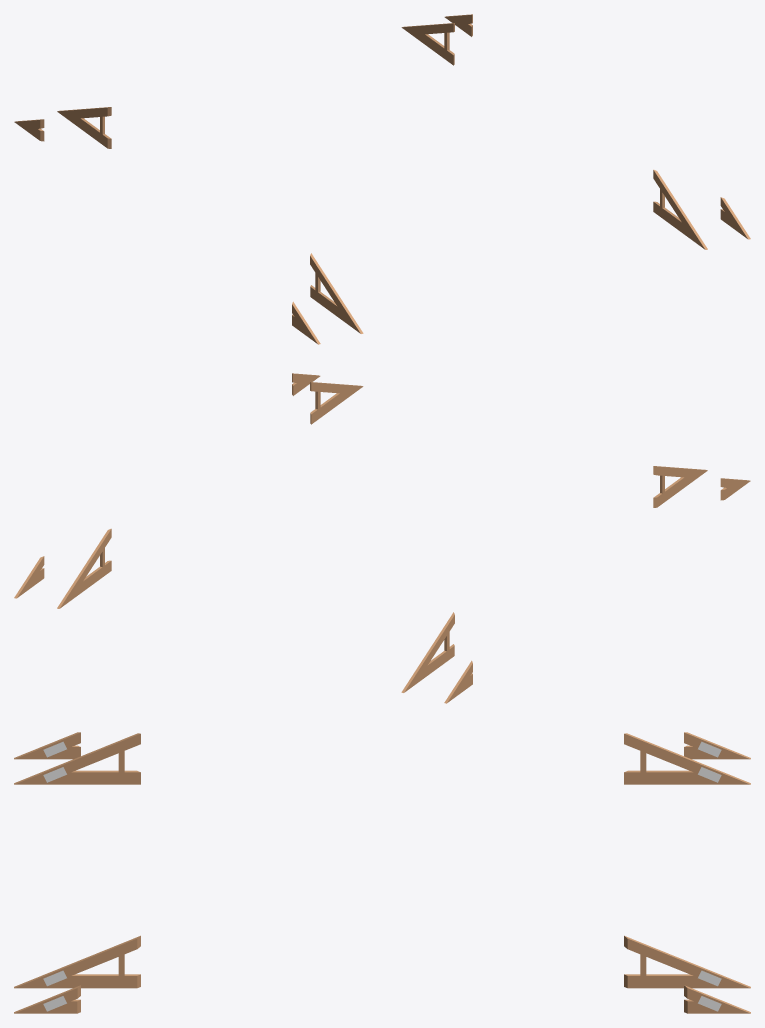
3 renders of one model, top to bottom at view 1: azimuth 30°, elevation 25°; view 2: azimuth 150°, elevation 25°; view 3: azimuth 270°, elevation 25°, orthographic. The views are drawn at different scales.
Parts seen in each view (by area): view 1: Walmbinder.004, Walmbinder.003, Walmbinder.007, Walmbinder.006; view 2: Walmbinder.006, Walmbinder.007, Walmbinder.003, Walmbinder.004; view 3: Walmbinder.004, Walmbinder.006, Walmbinder.003, Walmbinder.007, Walmbinder.001, Walmbinder.005, Walmbinder.002, Walmbinder.
Boxes of the visible parts, bbox=[...] form: Walmbinder.004: bbox=[653, 169, 707, 249]; Walmbinder.003: bbox=[310, 253, 363, 333]; Walmbinder.007: bbox=[57, 107, 111, 148]; Walmbinder.006: bbox=[401, 23, 454, 65]; Walmbinder.006: bbox=[57, 528, 111, 608]; Walmbinder.007: bbox=[401, 612, 454, 692]; Walmbinder.003: bbox=[653, 466, 707, 507]; Walmbinder.004: bbox=[310, 382, 363, 424]; Walmbinder.004: bbox=[14, 935, 140, 988]; Walmbinder.006: bbox=[624, 935, 750, 988]; Walmbinder.003: bbox=[14, 733, 140, 784]; Walmbinder.007: bbox=[624, 733, 750, 784]; Walmbinder.001: bbox=[14, 985, 80, 1013]; Walmbinder.005: bbox=[684, 985, 750, 1013]; Walmbinder.002: bbox=[14, 732, 80, 759]; Walmbinder: bbox=[684, 732, 750, 759].
Size of the model in its own units: 9.35 by 0.8743 by 11.39.
